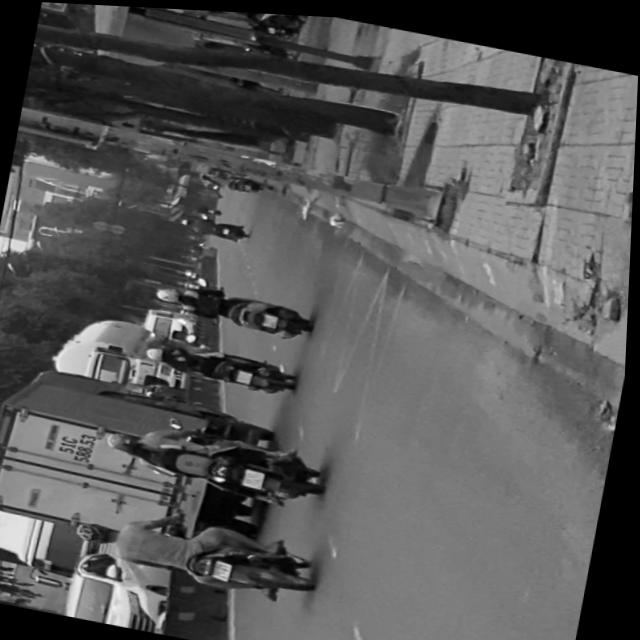helmet: (77, 518, 121, 546), (106, 428, 136, 452)
licenseplate: (71, 497, 327, 607), (101, 411, 334, 510)
motorcyclist: (124, 437, 167, 461)
nohelmet: (245, 466, 268, 486), (216, 557, 236, 578)
